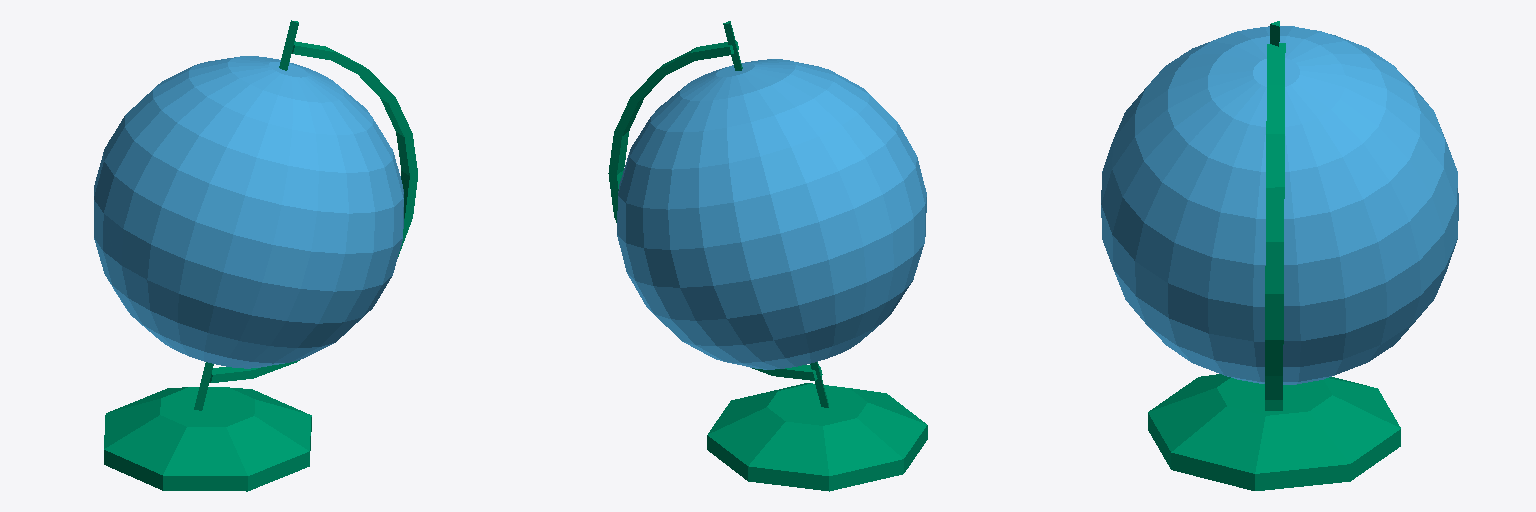
The robot description file, URDF, robot "partnet_27d0566b9a4b127cda95f26923bb8547":
<?xml version="1.0" ?>
<robot name="partnet_27d0566b9a4b127cda95f26923bb8547">
	<link name="base"/>
	<link name="link_0">
		<visual name="sphere-1">
			<origin xyz="0.013686915954528811 -0.9077624022791018 0.2077937196346721"/>
			<geometry>
				<mesh filename="textured_objs/original-3.obj"/>
			</geometry>
		</visual>
		<visual name="sphere-1">
			<origin xyz="0.013686915954528811 -0.9077624022791018 0.2077937196346721"/>
			<geometry>
				<mesh filename="textured_objs/original-6.obj"/>
			</geometry>
		</visual>
		<visual name="sphere-1">
			<origin xyz="0.013686915954528811 -0.9077624022791018 0.2077937196346721"/>
			<geometry>
				<mesh filename="textured_objs/original-14.obj"/>
			</geometry>
		</visual>
		<visual name="sphere-1">
			<origin xyz="0.013686915954528811 -0.9077624022791018 0.2077937196346721"/>
			<geometry>
				<mesh filename="textured_objs/original-9.obj"/>
			</geometry>
		</visual>
		<visual name="sphere-1">
			<origin xyz="0.013686915954528811 -0.9077624022791018 0.2077937196346721"/>
			<geometry>
				<mesh filename="textured_objs/original-7.obj"/>
			</geometry>
		</visual>
		<visual name="sphere-1">
			<origin xyz="0.013686915954528811 -0.9077624022791018 0.2077937196346721"/>
			<geometry>
				<mesh filename="textured_objs/original-13.obj"/>
			</geometry>
		</visual>
		<visual name="sphere-1">
			<origin xyz="0.013686915954528811 -0.9077624022791018 0.2077937196346721"/>
			<geometry>
				<mesh filename="textured_objs/original-4.obj"/>
			</geometry>
		</visual>
		<visual name="sphere-1">
			<origin xyz="0.013686915954528811 -0.9077624022791018 0.2077937196346721"/>
			<geometry>
				<mesh filename="textured_objs/original-21.obj"/>
			</geometry>
		</visual>
		<visual name="sphere-1">
			<origin xyz="0.013686915954528811 -0.9077624022791018 0.2077937196346721"/>
			<geometry>
				<mesh filename="textured_objs/original-10.obj"/>
			</geometry>
		</visual>
		<visual name="sphere-1">
			<origin xyz="0.013686915954528811 -0.9077624022791018 0.2077937196346721"/>
			<geometry>
				<mesh filename="textured_objs/original-22.obj"/>
			</geometry>
		</visual>
		<visual name="sphere-1">
			<origin xyz="0.013686915954528811 -0.9077624022791018 0.2077937196346721"/>
			<geometry>
				<mesh filename="textured_objs/original-5.obj"/>
			</geometry>
		</visual>
		<visual name="sphere-1">
			<origin xyz="0.013686915954528811 -0.9077624022791018 0.2077937196346721"/>
			<geometry>
				<mesh filename="textured_objs/original-16.obj"/>
			</geometry>
		</visual>
		<visual name="sphere-1">
			<origin xyz="0.013686915954528811 -0.9077624022791018 0.2077937196346721"/>
			<geometry>
				<mesh filename="textured_objs/original-15.obj"/>
			</geometry>
		</visual>
		<visual name="sphere-1">
			<origin xyz="0.013686915954528811 -0.9077624022791018 0.2077937196346721"/>
			<geometry>
				<mesh filename="textured_objs/original-23.obj"/>
			</geometry>
		</visual>
		<visual name="sphere-1">
			<origin xyz="0.013686915954528811 -0.9077624022791018 0.2077937196346721"/>
			<geometry>
				<mesh filename="textured_objs/original-18.obj"/>
			</geometry>
		</visual>
		<visual name="sphere-1">
			<origin xyz="0.013686915954528811 -0.9077624022791018 0.2077937196346721"/>
			<geometry>
				<mesh filename="textured_objs/original-12.obj"/>
			</geometry>
		</visual>
		<visual name="sphere-1">
			<origin xyz="0.013686915954528811 -0.9077624022791018 0.2077937196346721"/>
			<geometry>
				<mesh filename="textured_objs/original-17.obj"/>
			</geometry>
		</visual>
		<visual name="sphere-1">
			<origin xyz="0.013686915954528811 -0.9077624022791018 0.2077937196346721"/>
			<geometry>
				<mesh filename="textured_objs/original-19.obj"/>
			</geometry>
		</visual>
		<visual name="sphere-1">
			<origin xyz="0.013686915954528811 -0.9077624022791018 0.2077937196346721"/>
			<geometry>
				<mesh filename="textured_objs/original-8.obj"/>
			</geometry>
		</visual>
		<visual name="sphere-1">
			<origin xyz="0.013686915954528811 -0.9077624022791018 0.2077937196346721"/>
			<geometry>
				<mesh filename="textured_objs/original-26.obj"/>
			</geometry>
		</visual>
		<visual name="sphere-1">
			<origin xyz="0.013686915954528811 -0.9077624022791018 0.2077937196346721"/>
			<geometry>
				<mesh filename="textured_objs/original-24.obj"/>
			</geometry>
		</visual>
		<visual name="sphere-1">
			<origin xyz="0.013686915954528811 -0.9077624022791018 0.2077937196346721"/>
			<geometry>
				<mesh filename="textured_objs/original-27.obj"/>
			</geometry>
		</visual>
		<visual name="sphere-1">
			<origin xyz="0.013686915954528811 -0.9077624022791018 0.2077937196346721"/>
			<geometry>
				<mesh filename="textured_objs/original-25.obj"/>
			</geometry>
		</visual>
		<visual name="sphere-1">
			<origin xyz="0.013686915954528811 -0.9077624022791018 0.2077937196346721"/>
			<geometry>
				<mesh filename="textured_objs/original-20.obj"/>
			</geometry>
		</visual>
		<collision>
			<origin xyz="0.013686915954528811 -0.9077624022791018 0.2077937196346721"/>
			<geometry>
				<mesh filename="textured_objs/original-3.obj"/>
			</geometry>
		</collision>
		<collision>
			<origin xyz="0.013686915954528811 -0.9077624022791018 0.2077937196346721"/>
			<geometry>
				<mesh filename="textured_objs/original-6.obj"/>
			</geometry>
		</collision>
		<collision>
			<origin xyz="0.013686915954528811 -0.9077624022791018 0.2077937196346721"/>
			<geometry>
				<mesh filename="textured_objs/original-14.obj"/>
			</geometry>
		</collision>
		<collision>
			<origin xyz="0.013686915954528811 -0.9077624022791018 0.2077937196346721"/>
			<geometry>
				<mesh filename="textured_objs/original-9.obj"/>
			</geometry>
		</collision>
		<collision>
			<origin xyz="0.013686915954528811 -0.9077624022791018 0.2077937196346721"/>
			<geometry>
				<mesh filename="textured_objs/original-7.obj"/>
			</geometry>
		</collision>
		<collision>
			<origin xyz="0.013686915954528811 -0.9077624022791018 0.2077937196346721"/>
			<geometry>
				<mesh filename="textured_objs/original-13.obj"/>
			</geometry>
		</collision>
		<collision>
			<origin xyz="0.013686915954528811 -0.9077624022791018 0.2077937196346721"/>
			<geometry>
				<mesh filename="textured_objs/original-4.obj"/>
			</geometry>
		</collision>
		<collision>
			<origin xyz="0.013686915954528811 -0.9077624022791018 0.2077937196346721"/>
			<geometry>
				<mesh filename="textured_objs/original-21.obj"/>
			</geometry>
		</collision>
		<collision>
			<origin xyz="0.013686915954528811 -0.9077624022791018 0.2077937196346721"/>
			<geometry>
				<mesh filename="textured_objs/original-10.obj"/>
			</geometry>
		</collision>
		<collision>
			<origin xyz="0.013686915954528811 -0.9077624022791018 0.2077937196346721"/>
			<geometry>
				<mesh filename="textured_objs/original-22.obj"/>
			</geometry>
		</collision>
		<collision>
			<origin xyz="0.013686915954528811 -0.9077624022791018 0.2077937196346721"/>
			<geometry>
				<mesh filename="textured_objs/original-5.obj"/>
			</geometry>
		</collision>
		<collision>
			<origin xyz="0.013686915954528811 -0.9077624022791018 0.2077937196346721"/>
			<geometry>
				<mesh filename="textured_objs/original-16.obj"/>
			</geometry>
		</collision>
		<collision>
			<origin xyz="0.013686915954528811 -0.9077624022791018 0.2077937196346721"/>
			<geometry>
				<mesh filename="textured_objs/original-15.obj"/>
			</geometry>
		</collision>
		<collision>
			<origin xyz="0.013686915954528811 -0.9077624022791018 0.2077937196346721"/>
			<geometry>
				<mesh filename="textured_objs/original-23.obj"/>
			</geometry>
		</collision>
		<collision>
			<origin xyz="0.013686915954528811 -0.9077624022791018 0.2077937196346721"/>
			<geometry>
				<mesh filename="textured_objs/original-18.obj"/>
			</geometry>
		</collision>
		<collision>
			<origin xyz="0.013686915954528811 -0.9077624022791018 0.2077937196346721"/>
			<geometry>
				<mesh filename="textured_objs/original-12.obj"/>
			</geometry>
		</collision>
		<collision>
			<origin xyz="0.013686915954528811 -0.9077624022791018 0.2077937196346721"/>
			<geometry>
				<mesh filename="textured_objs/original-17.obj"/>
			</geometry>
		</collision>
		<collision>
			<origin xyz="0.013686915954528811 -0.9077624022791018 0.2077937196346721"/>
			<geometry>
				<mesh filename="textured_objs/original-19.obj"/>
			</geometry>
		</collision>
		<collision>
			<origin xyz="0.013686915954528811 -0.9077624022791018 0.2077937196346721"/>
			<geometry>
				<mesh filename="textured_objs/original-8.obj"/>
			</geometry>
		</collision>
		<collision>
			<origin xyz="0.013686915954528811 -0.9077624022791018 0.2077937196346721"/>
			<geometry>
				<mesh filename="textured_objs/original-26.obj"/>
			</geometry>
		</collision>
		<collision>
			<origin xyz="0.013686915954528811 -0.9077624022791018 0.2077937196346721"/>
			<geometry>
				<mesh filename="textured_objs/original-24.obj"/>
			</geometry>
		</collision>
		<collision>
			<origin xyz="0.013686915954528811 -0.9077624022791018 0.2077937196346721"/>
			<geometry>
				<mesh filename="textured_objs/original-27.obj"/>
			</geometry>
		</collision>
		<collision>
			<origin xyz="0.013686915954528811 -0.9077624022791018 0.2077937196346721"/>
			<geometry>
				<mesh filename="textured_objs/original-25.obj"/>
			</geometry>
		</collision>
		<collision>
			<origin xyz="0.013686915954528811 -0.9077624022791018 0.2077937196346721"/>
			<geometry>
				<mesh filename="textured_objs/original-20.obj"/>
			</geometry>
		</collision>
	</link>
	<joint name="joint_0" type="continuous">
		<origin xyz="-0.013686915954528811 0.9077624022791018 -0.2077937196346721"/>
		<axis xyz="-0.0015796513331023771 -0.9642673133670788 0.264926505041496"/>
		<child link="link_0"/>
		<parent link="link_1"/>
	</joint>
	<link name="link_1">
		<visual name="base_body-2">
			<origin xyz="0 0 0"/>
			<geometry>
				<mesh filename="textured_objs/original-29.obj"/>
			</geometry>
		</visual>
		<visual name="base_body-2">
			<origin xyz="0 0 0"/>
			<geometry>
				<mesh filename="textured_objs/original-30.obj"/>
			</geometry>
		</visual>
		<visual name="base_body-2">
			<origin xyz="0 0 0"/>
			<geometry>
				<mesh filename="textured_objs/original-28.obj"/>
			</geometry>
		</visual>
		<visual name="base_body-2">
			<origin xyz="0 0 0"/>
			<geometry>
				<mesh filename="textured_objs/original-33.obj"/>
			</geometry>
		</visual>
		<visual name="base_body-2">
			<origin xyz="0 0 0"/>
			<geometry>
				<mesh filename="textured_objs/original-31.obj"/>
			</geometry>
		</visual>
		<visual name="base_body-2">
			<origin xyz="0 0 0"/>
			<geometry>
				<mesh filename="textured_objs/original-32.obj"/>
			</geometry>
		</visual>
		<collision>
			<origin xyz="0 0 0"/>
			<geometry>
				<mesh filename="textured_objs/original-29.obj"/>
			</geometry>
		</collision>
		<collision>
			<origin xyz="0 0 0"/>
			<geometry>
				<mesh filename="textured_objs/original-30.obj"/>
			</geometry>
		</collision>
		<collision>
			<origin xyz="0 0 0"/>
			<geometry>
				<mesh filename="textured_objs/original-28.obj"/>
			</geometry>
		</collision>
		<collision>
			<origin xyz="0 0 0"/>
			<geometry>
				<mesh filename="textured_objs/original-33.obj"/>
			</geometry>
		</collision>
		<collision>
			<origin xyz="0 0 0"/>
			<geometry>
				<mesh filename="textured_objs/original-31.obj"/>
			</geometry>
		</collision>
		<collision>
			<origin xyz="0 0 0"/>
			<geometry>
				<mesh filename="textured_objs/original-32.obj"/>
			</geometry>
		</collision>
	</link>
	<joint name="joint_1" type="fixed">
		<origin rpy="1.570796326794897 0 -1.570796326794897" xyz="0 0 0"/>
		<child link="link_1"/>
		<parent link="base"/>
	</joint>
</robot>

--- Render facts (derived) ---
The picture shows the robot from 3 angles, left to right: view 1: azimuth 30°, elevation 25°; view 2: azimuth 150°, elevation 25°; view 3: azimuth 270°, elevation 25°; orthographic projection.
Robot: partnet_27d0566b9a4b127cda95f26923bb8547 — 3 links, 2 joints (1 continuous, 1 fixed); root link base; default pose: all joints at 0.
Links seen in each view (by area): view 1: link_0, link_1; view 2: link_0, link_1; view 3: link_0, link_1.
Link boxes in pixels (x1,y1,x2,y2): link_0: (94, 56, 403, 368); link_1: (104, 20, 417, 491); link_0: (617, 59, 926, 369); link_1: (608, 21, 927, 491); link_0: (1101, 26, 1458, 384); link_1: (1148, 21, 1400, 490).
Size in the robot's own frame: 1.34 by 1.19 by 1.71 metres.
Meshes: 30 distinct files referenced, 30 mesh visuals loaded (30 OBJ).
